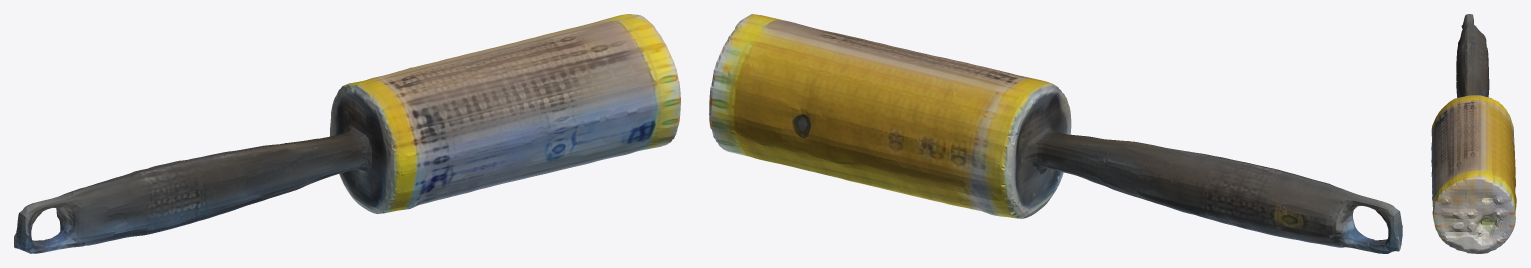
The model's file is roller.obj.
3 views of the same model, side by side, from view 1: azimuth 30°, elevation 25°; view 2: azimuth 150°, elevation 25°; view 3: azimuth 270°, elevation 25° (orthographic). The views are drawn at different scales.
Size of the model in its own units: 0.22 by 0.0417 by 0.0416.
1 material, 1 textured.
